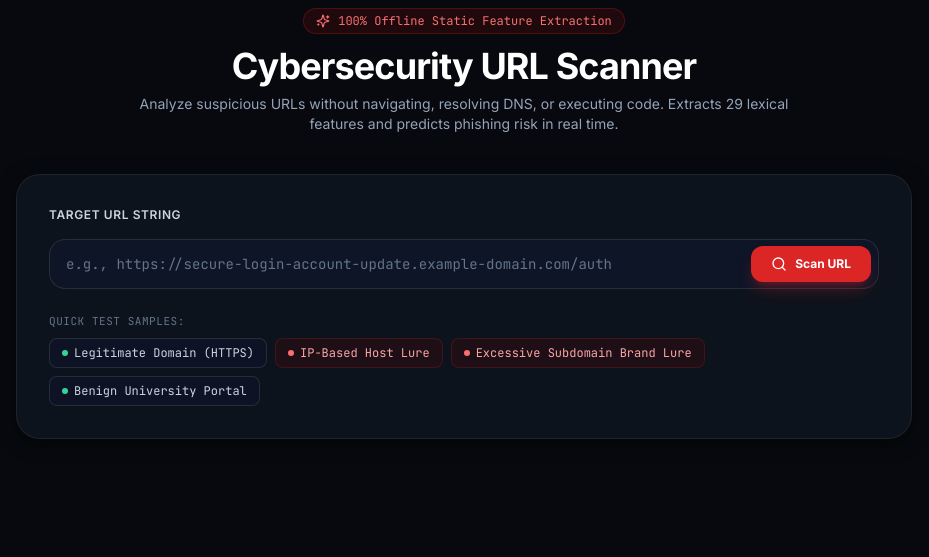
it: UrlScanner Component › handles backend network failures gracefully
Replace the text in the field with placeholder "e.g., https://" with "https://example.com": (464, 264) x1=49 y1=239 x2=879 y2=289
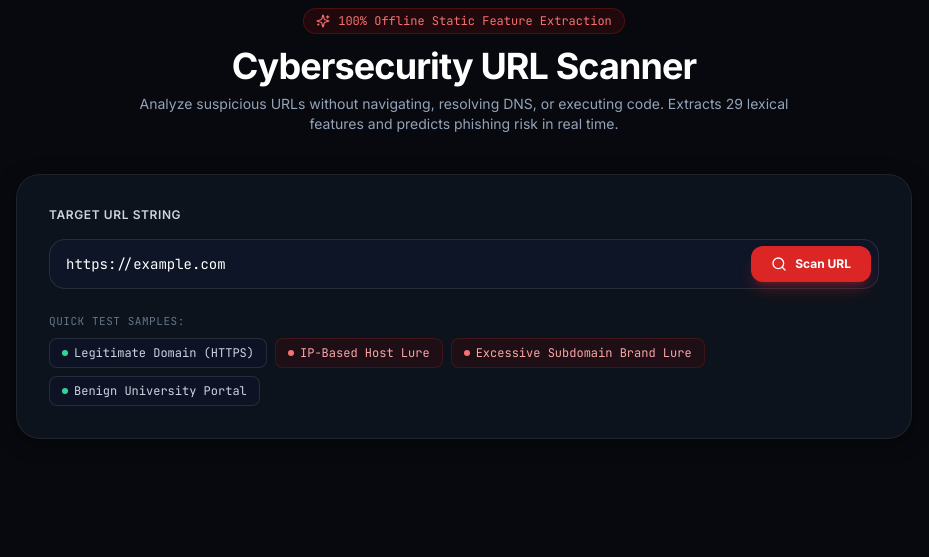
Click the button "Scan URL": (811, 264) x1=751 y1=246 x2=871 y2=282
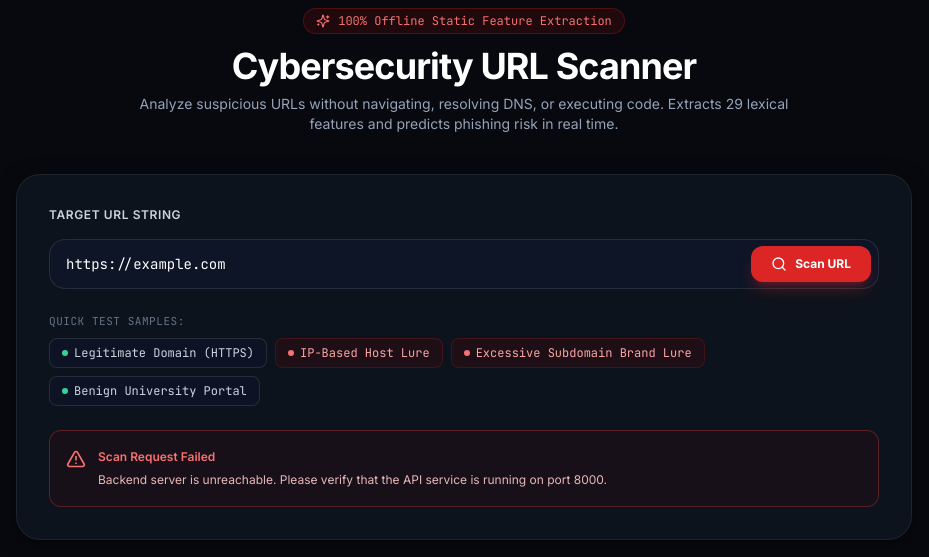
Expected: the text "Backend server is unreachable" is shown, x1=98 y1=472 x2=607 y2=487
